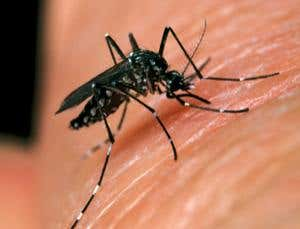dengue_mosquito: (54, 18, 249, 161)
